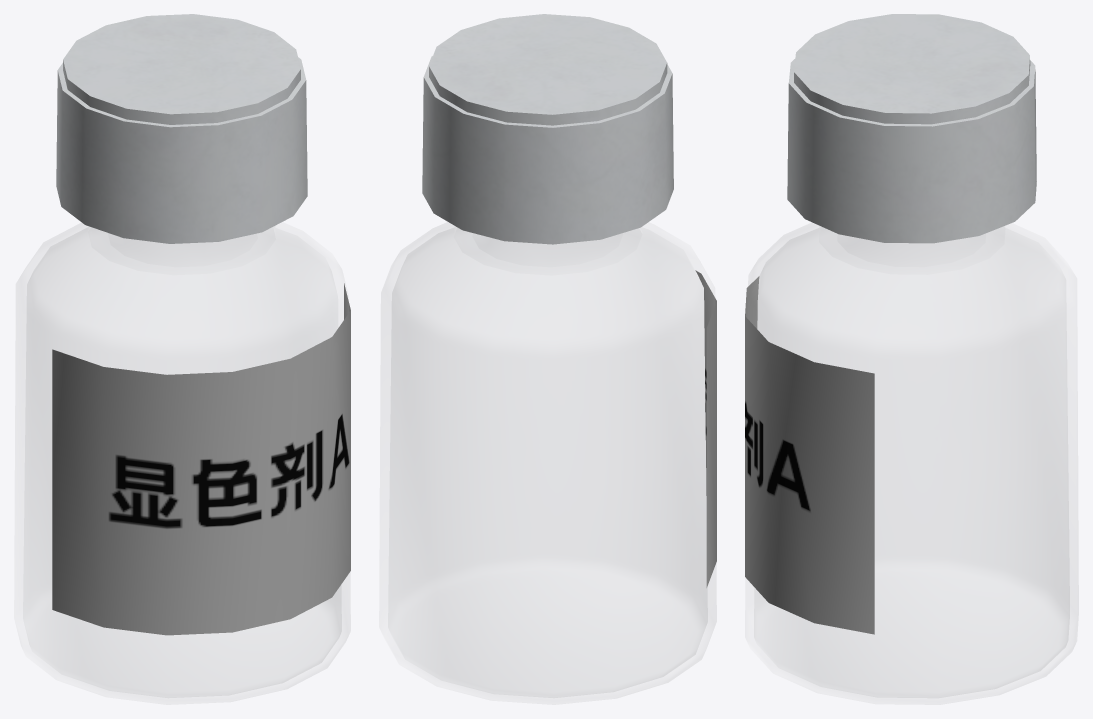
File: 显色剂A液.glb
3 renders of one model, left to right at view 1: azimuth 30°, elevation 25°; view 2: azimuth 150°, elevation 25°; view 3: azimuth 270°, elevation 25°, orthographic.
Visible parts, largest first — view 1: 1XPBS缓冲液.005, 1XPBS缓冲液.004, 1XPBS缓冲液.001, 显色剂a; view 2: 1XPBS缓冲液.004, 1XPBS缓冲液.001, 显色剂a, 1XPBS缓冲液.005; view 3: 1XPBS缓冲液.004, 1XPBS缓冲液.001, 1XPBS缓冲液.005, 显色剂a.
Part boxes in pixels (x1,y1,x2,y2): 1XPBS缓冲液.005: [52, 283, 350, 635]; 1XPBS缓冲液.004: [23, 228, 341, 697]; 1XPBS缓冲液.001: [56, 14, 307, 243]; 显色剂a: [14, 222, 350, 704]; 1XPBS缓冲液.004: [388, 228, 707, 697]; 1XPBS缓冲液.001: [422, 14, 673, 244]; 显色剂a: [379, 222, 716, 704]; 1XPBS缓冲液.005: [695, 270, 716, 587]; 1XPBS缓冲液.004: [754, 227, 1069, 697]; 1XPBS缓冲液.001: [787, 14, 1036, 243]; 1XPBS缓冲液.005: [745, 276, 874, 634]; 显色剂a: [745, 223, 1078, 704].
Size of the model in its own units: 0.068 by 0.1296 by 0.068.
1 material, 1 textured.
